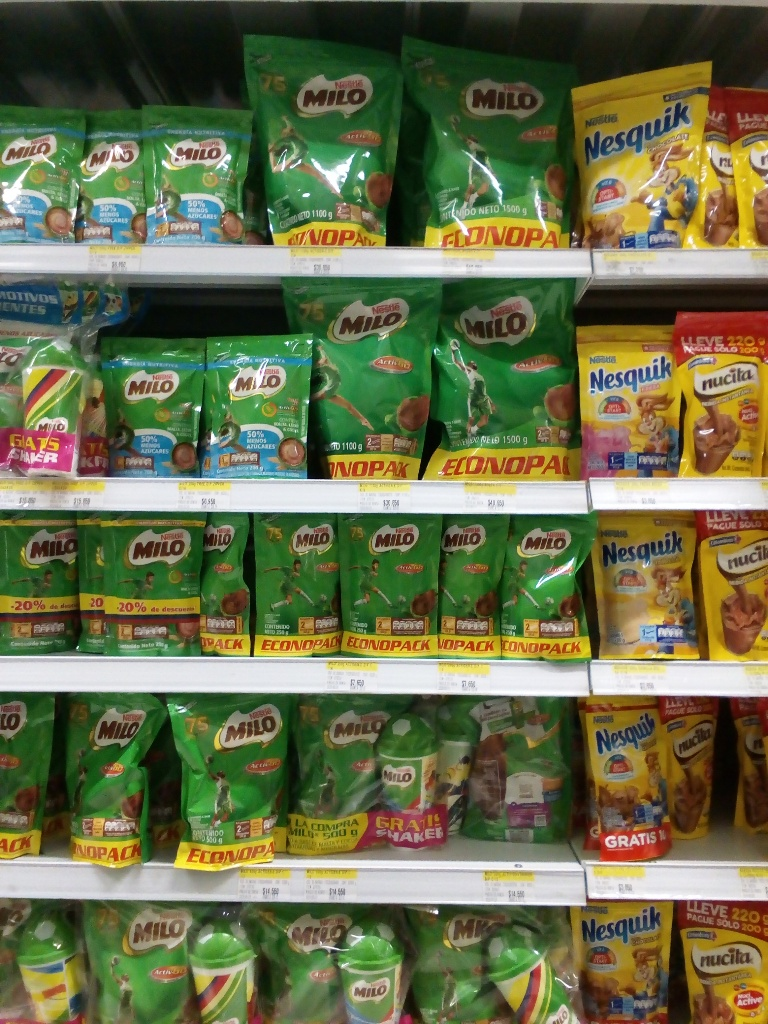COL0170203DYP25000: (0, 514, 75, 654)
COL0170203DYP50000: (0, 694, 61, 860)
COL0170205DYP20000: (3, 105, 75, 243)
COL0170303DYP20000: (567, 902, 671, 1024)
COL0170305DYP20000: (580, 323, 674, 469)
COL0170306DYP20000: (601, 511, 697, 660)
